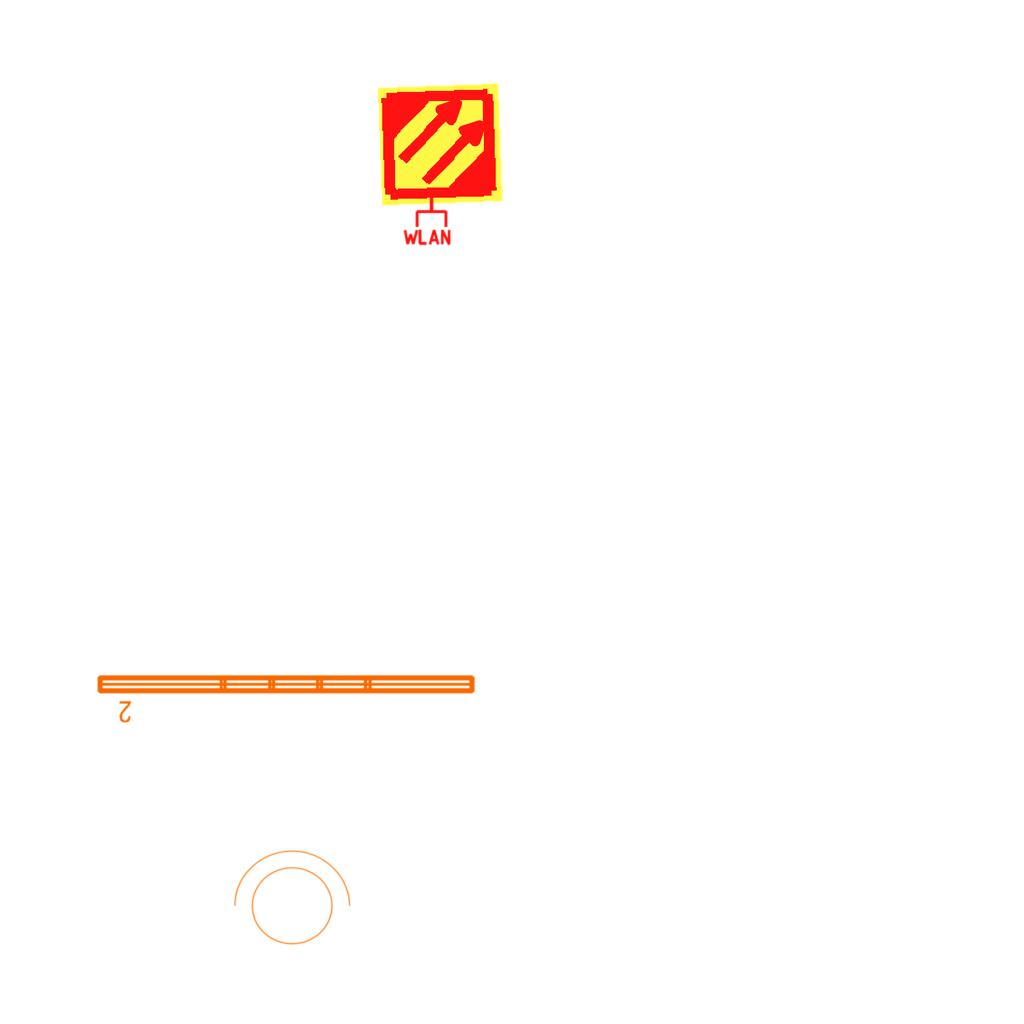ASR_Ansaugrauchmelder: (375, 79, 506, 210)
Ambulanz_Pendelleuchte_LED: (93, 669, 480, 725)
Scheinwerfer_fuer_Alarmbeleuchtung: (223, 845, 355, 957)
WLAN: (401, 194, 453, 246)
